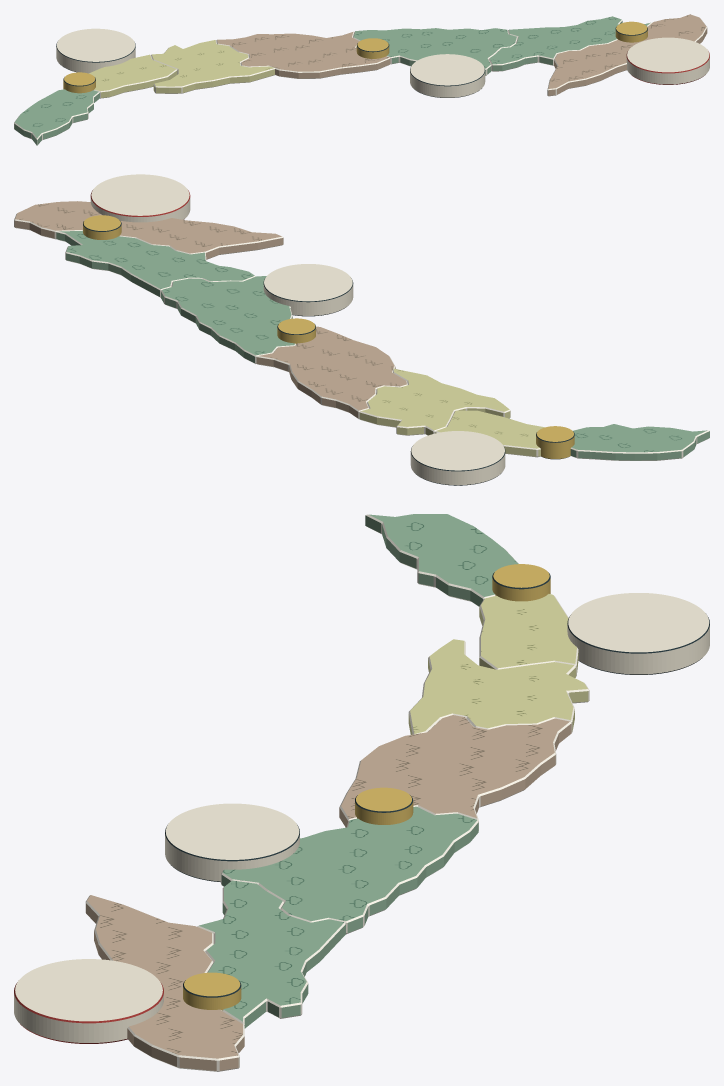
The model's file is atlas-terrain-map.glb.
3 views of the same model, one above another, from view 1: azimuth 30°, elevation 25°; view 2: azimuth 150°, elevation 25°; view 3: azimuth 270°, elevation 25° (orthographic). The views are drawn at different scales.
Parts seen in each view (by area): view 1: las-villas, sierra-maestra, camaguey-province, matanzas, oriente, santiago, camaguey-city, havana, pinar-del-rio, la-habana, ec-las-villas-camaguey, ec-pinar-la-habana (+1 smaller); view 2: las-villas, camaguey-province, sierra-maestra, oriente, matanzas, havana, pinar-del-rio, santiago, camaguey-city, la-habana, ec-pinar-la-habana, ec-las-villas-camaguey (+1 smaller); view 3: camaguey-province, las-villas, sierra-maestra, oriente, matanzas, santiago, havana, camaguey-city, pinar-del-rio, la-habana, ec-pinar-la-habana, ec-oriente-sierra (+1 smaller).
Boxes of the visible parts, <box> form: las-villas: <box>216,31,390,78</box>; sierra-maestra: <box>547,14,707,96</box>; camaguey-province: <box>353,28,517,75</box>; matanzas: <box>151,40,275,93</box>; oriente: <box>488,16,651,71</box>; santiago: <box>626,37,709,84</box>; camaguey-city: <box>410,54,485,97</box>; havana: <box>56,28,135,73</box>; pinar-del-rio: <box>14,89,99,145</box>; la-habana: <box>89,54,177,98</box>; ec-las-villas-camaguey: <box>356,38,389,58</box>; ec-pinar-la-habana: <box>63,72,95,93</box>; las-villas: <box>256,326,407,419</box>; camaguey-province: <box>161,276,295,363</box>; sierra-maestra: <box>14,201,283,259</box>; oriente: <box>56,231,255,297</box>; matanzas: <box>359,368,510,435</box>; havana: <box>410,431,505,485</box>; pinar-del-rio: <box>570,424,709,460</box>; santiago: <box>90,174,190,222</box>; camaguey-city: <box>263,264,353,316</box>; la-habana: <box>435,410,544,457</box>; ec-pinar-la-habana: <box>536,426,574,459</box>; ec-las-villas-camaguey: <box>277,318,315,343</box>; camaguey-province: <box>221,806,478,934</box>; las-villas: <box>339,715,571,830</box>; sierra-maestra: <box>85,895,244,1071</box>; oriente: <box>197,880,345,1028</box>; matanzas: <box>408,639,589,734</box>; santiago: <box>14,959,163,1043</box>; havana: <box>567,593,709,674</box>; camaguey-city: <box>165,803,299,882</box>; pinar-del-rio: <box>365,514,518,606</box>; la-habana: <box>479,594,578,676</box>; ec-pinar-la-habana: <box>492,564,550,601</box>; ec-oriente-sierra: <box>183,972,241,1010</box>.
Size of the model in its own units: 12.4 by 0.28 by 6.68.
29 materials, 3 textured.
